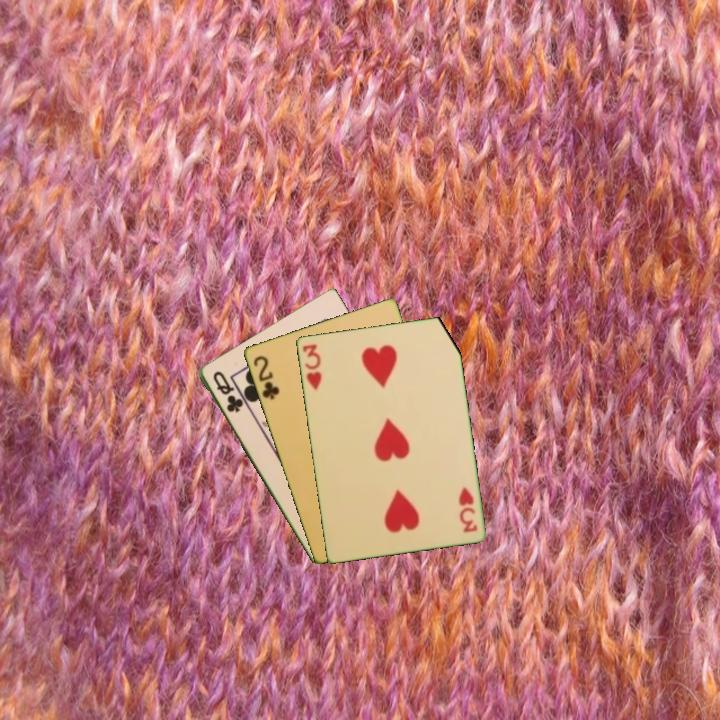2c: (249, 352, 282, 402)
3h: (299, 340, 324, 392), (455, 483, 480, 535)
Qc: (209, 367, 246, 416)
